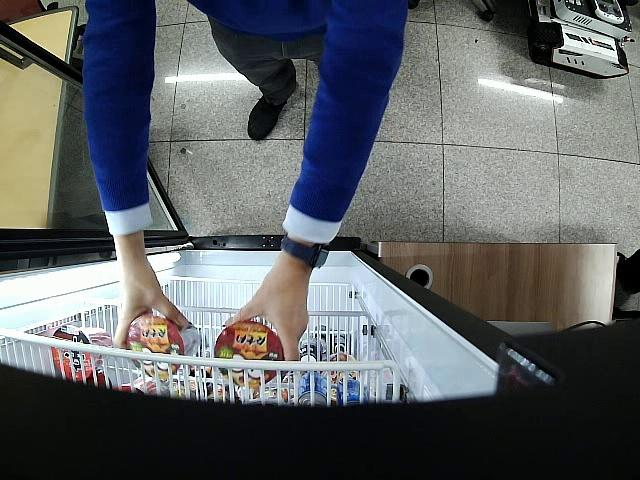00_hand: (225, 273, 308, 361), (115, 260, 190, 351)
06_nuguri_S: (215, 319, 285, 389), (127, 314, 201, 379)
